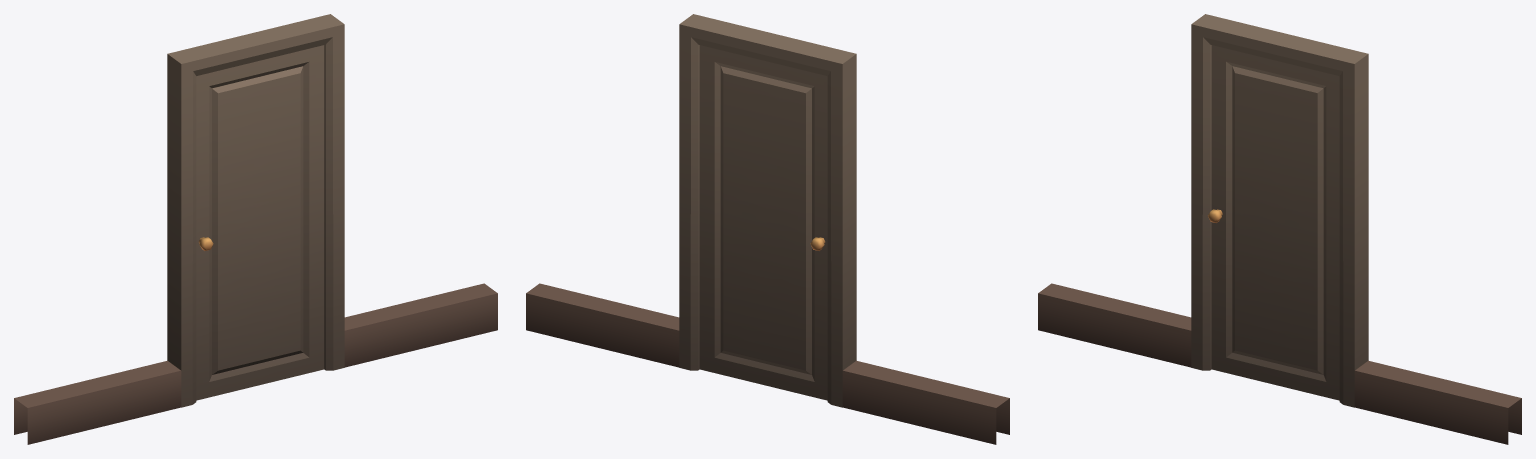
The model's file is wallframe_withdoor.fbx.
The picture shows the model from 3 angles, left to right: view 1: azimuth 30°, elevation 25°; view 2: azimuth 150°, elevation 25°; view 3: azimuth 330°, elevation 25°; orthographic projection.
Visible parts, largest first — view 1: Door, door_frame; view 2: Door, door_frame; view 3: Door, door_frame.
Part boxes in pixels (x1=…): Door: x1=196, y1=45, x2=324, y2=400; door_frame: x1=14, y1=14, x2=497, y2=444; Door: x1=699, y1=45, x2=827, y2=400; door_frame: x1=526, y1=14, x2=1009, y2=444; Door: x1=1208, y1=45, x2=1339, y2=400; door_frame: x1=1038, y1=14, x2=1521, y2=444.
Size of the model in its own units: 300 by 209 by 22.2.
